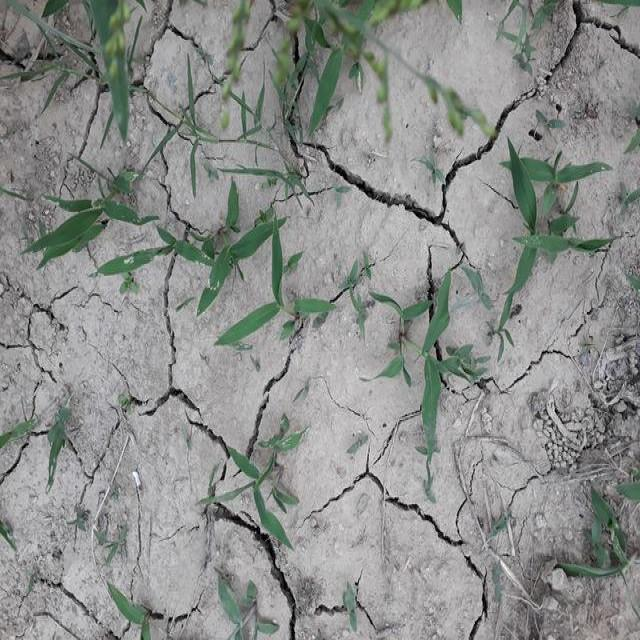weed: (35, 152, 336, 354), (501, 123, 602, 301), (266, 0, 396, 137), (401, 234, 476, 449), (210, 420, 308, 547), (74, 0, 142, 133), (562, 475, 640, 589), (0, 0, 81, 105), (466, 468, 518, 586), (178, 67, 216, 204), (217, 62, 272, 144), (500, 0, 565, 69), (422, 72, 484, 142), (215, 575, 280, 640), (106, 571, 156, 640), (32, 403, 74, 475), (345, 264, 371, 340), (90, 529, 132, 568), (462, 264, 492, 312), (416, 143, 447, 187), (114, 383, 138, 435), (491, 309, 517, 355), (418, 458, 438, 510), (345, 584, 360, 640), (619, 184, 640, 222), (625, 116, 639, 168), (64, 503, 90, 528), (0, 420, 34, 439), (295, 376, 314, 406), (0, 515, 15, 549), (348, 438, 369, 455)
